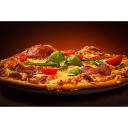pepperonipizza: (2, 43, 128, 93)
